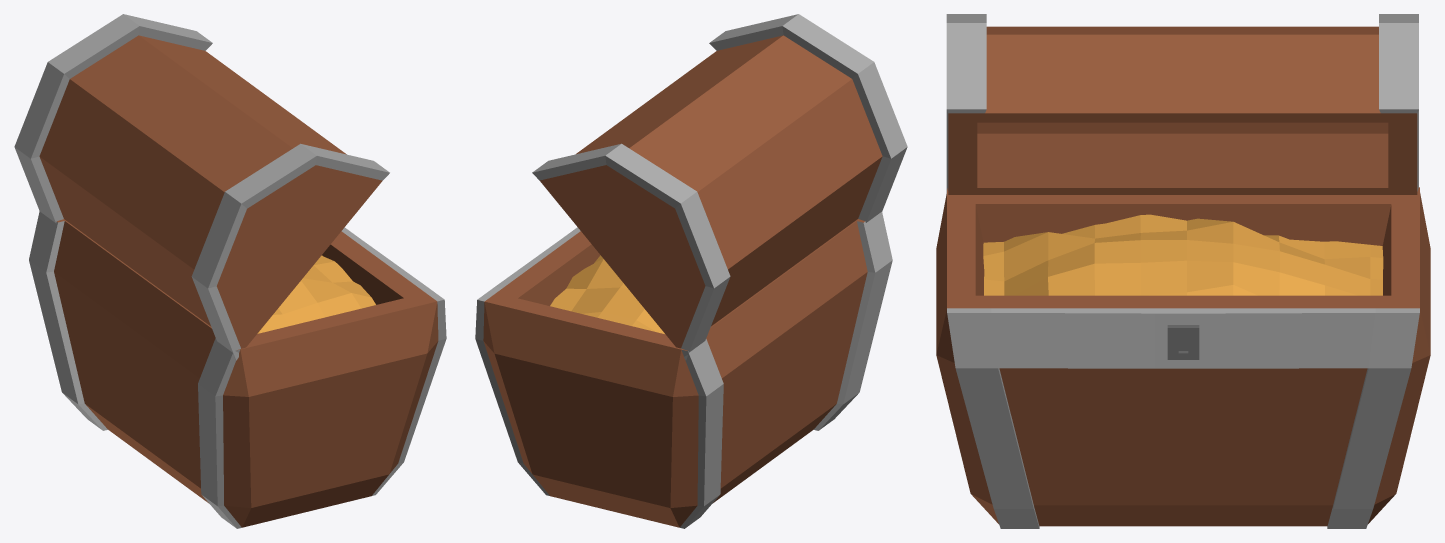
The model's file is Chest_gold.glb.
3 views of the same model, side by side, from view 1: azimuth 30°, elevation 25°; view 2: azimuth 150°, elevation 25°; view 3: azimuth 270°, elevation 25° (orthographic). The views are drawn at different scales.
Visible parts, largest first — view 1: ChestBottom, ChestTop; view 2: ChestBottom, ChestTop; view 3: ChestBottom, ChestTop.
Boxes of the visible parts, x1,y1,x2,y2 form: ChestBottom: (29,211,446,528); ChestTop: (14,14,389,360); ChestBottom: (475,212,892,528); ChestTop: (532,14,907,360); ChestBottom: (936,187,1430,528); ChestTop: (946,14,1418,194).
Bounding box in the file's own units: 0.783 × 1.15 × 1.12.
